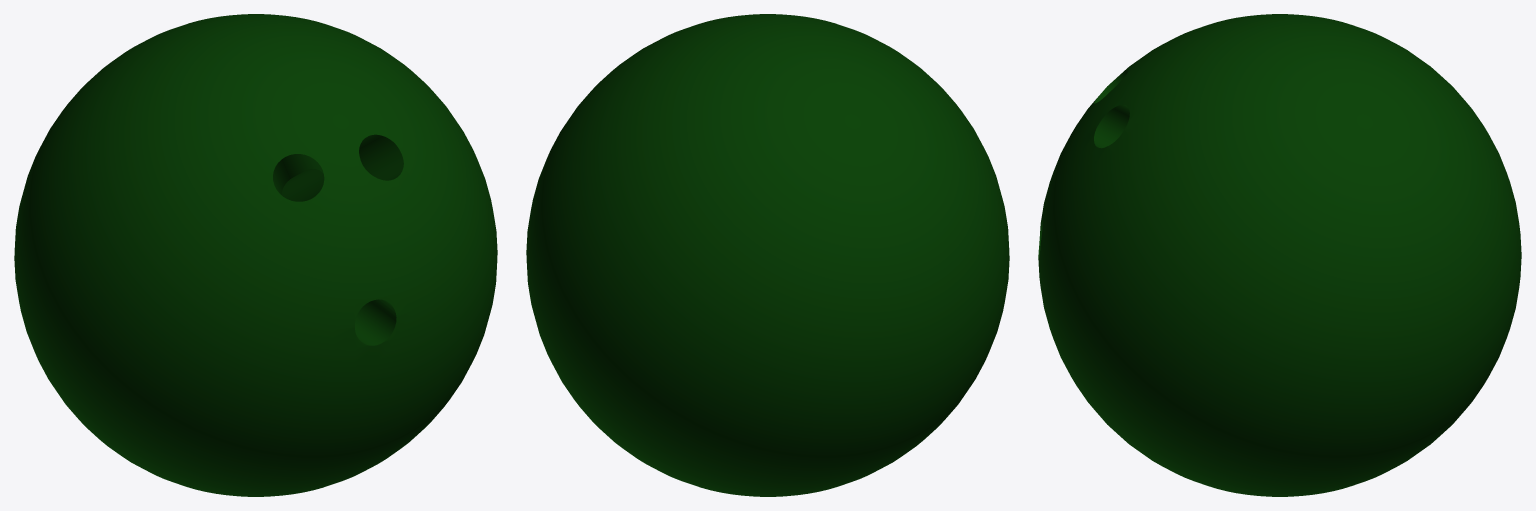
The model's file is BOWLING BALL.fbx.
3 renders of one model, left to right at view 1: azimuth 30°, elevation 25°; view 2: azimuth 150°, elevation 25°; view 3: azimuth 270°, elevation 25°, orthographic.
Visible parts, largest first — view 1: Sphere; view 2: Sphere; view 3: Sphere.
Boxes of the visible parts, x1,y1,x2,y2 form: Sphere: [14, 14, 497, 496]; Sphere: [526, 14, 1009, 496]; Sphere: [1038, 14, 1521, 496].
Bounding box in the file's own units: 200 × 200 × 200.
